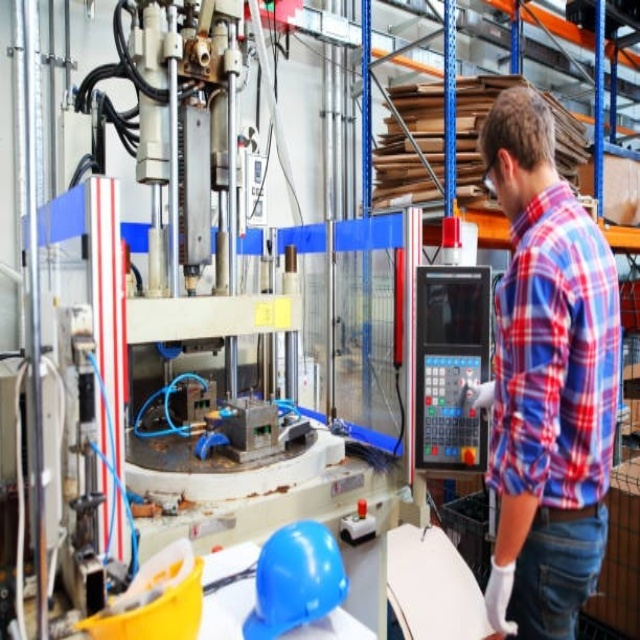Gafas: (481, 151, 505, 197)
Guantes: (484, 555, 520, 638), (467, 379, 496, 415)
